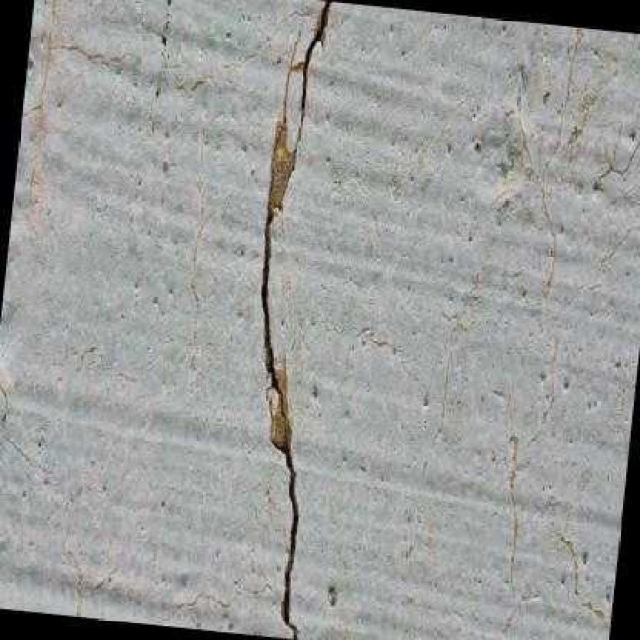D00: (256, 0, 333, 640)
